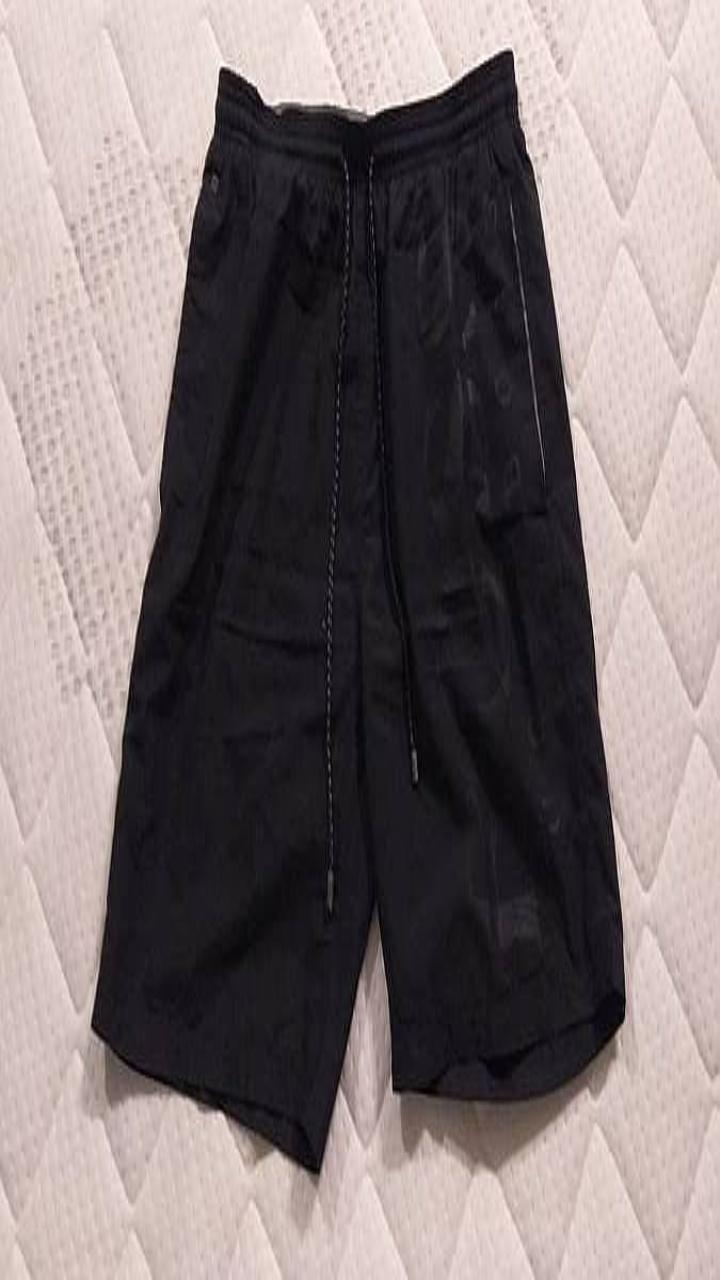Shorts: (92, 50, 624, 1170)
